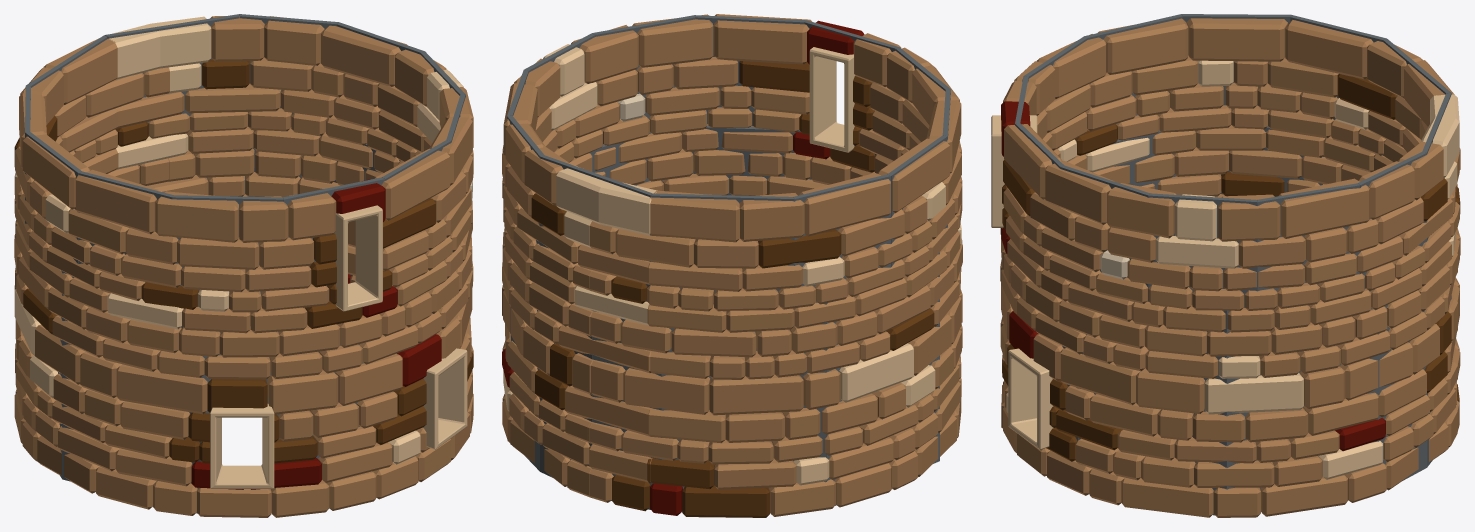
File: mid-section-with-three-slits_.glb
3 views of the same model, side by side, from view 1: azimuth 30°, elevation 25°; view 2: azimuth 150°, elevation 25°; view 3: azimuth 270°, elevation 25° (orthographic).
Visible parts, largest first — view 1: main-wall.086, grout-wall.001, upper-slit-frame, right-slit-frame, left-slit-frame; view 2: main-wall.086, grout-wall.001, upper-slit-frame; view 3: main-wall.086, grout-wall.001, right-slit-frame, upper-slit-frame.
Part boxes in pixels (<box>): main-wall.086: <box>14,16,473,517</box>; grout-wall.001: <box>25,14,465,513</box>; upper-slit-frame: <box>334,205,382,311</box>; right-slit-frame: <box>422,348,467,449</box>; left-slit-frame: <box>210,404,274,488</box>; main-wall.086: <box>502,14,962,517</box>; grout-wall.001: <box>507,15,950,512</box>; upper-slit-frame: <box>809,47,855,152</box>; main-wall.086: <box>1000,18,1460,517</box>; grout-wall.001: <box>1014,14,1451,515</box>; right-slit-frame: <box>1008,348,1053,449</box>; upper-slit-frame: <box>991,115,1037,227</box>.
Size of the model in its own units: 2 by 1.51 by 2.04.
